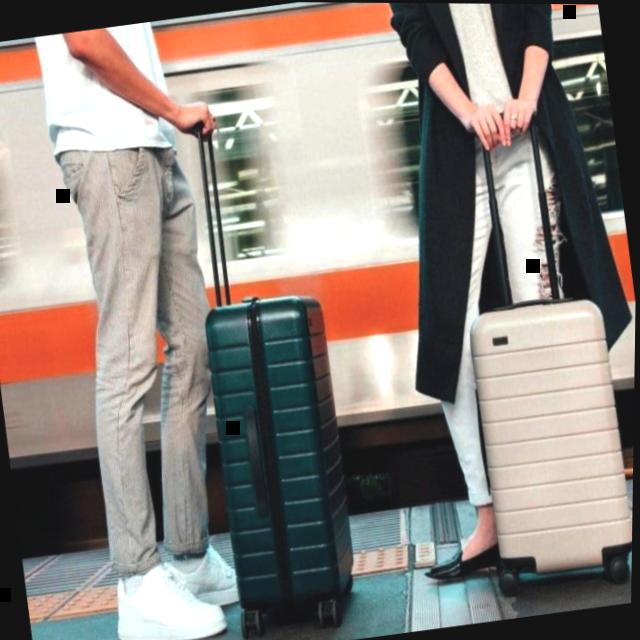luggage: (194, 282, 371, 627), (456, 284, 637, 595)
